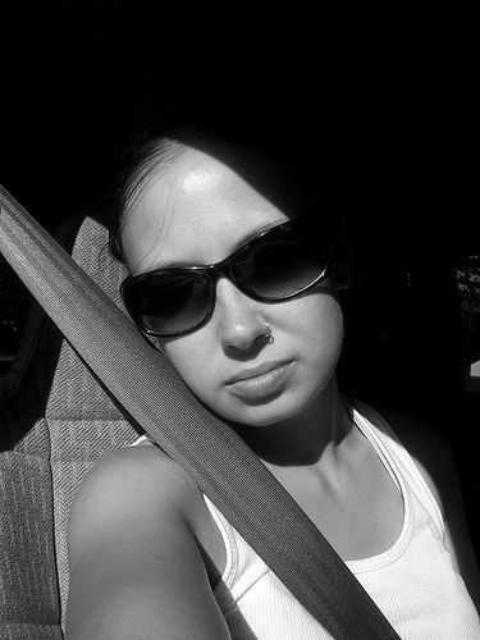Seatbelt: (0, 176, 407, 640)
